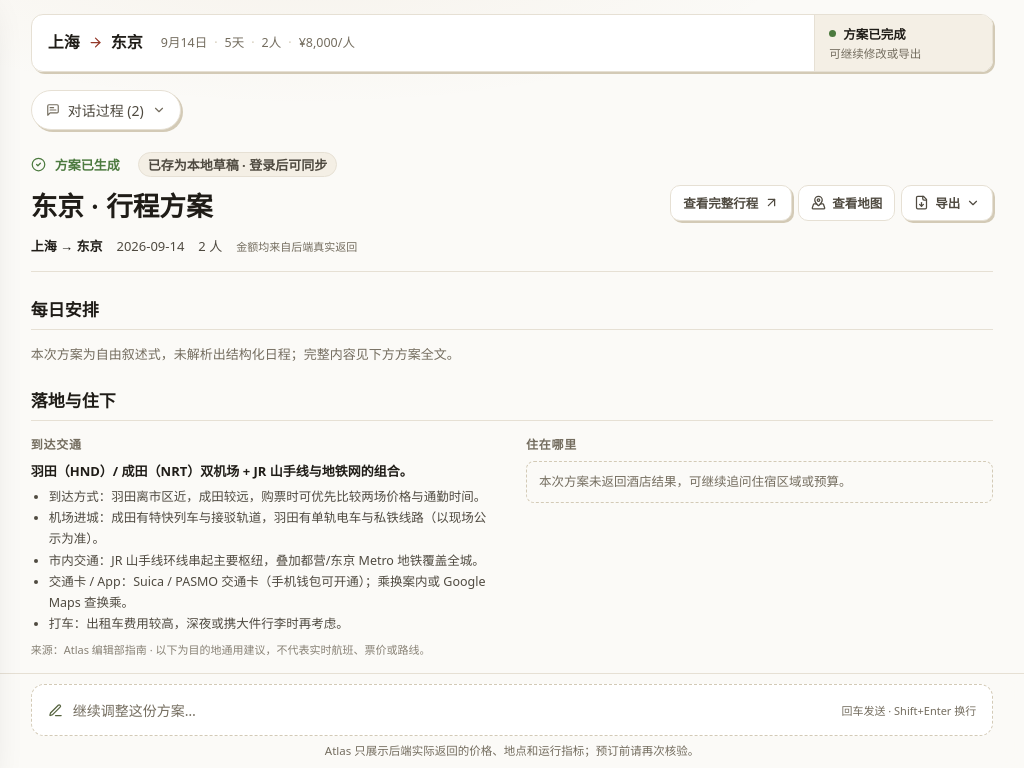
Atlas page integration › restores persisted journey sessions after a page refresh
The image size is (1024, 768).
Expected: the heading "东京 · 行程方案" is shown, 31,185 -> 213,224
Click the button "对话过程 (2)".
click(106, 110)  # box 31,90 -> 181,130
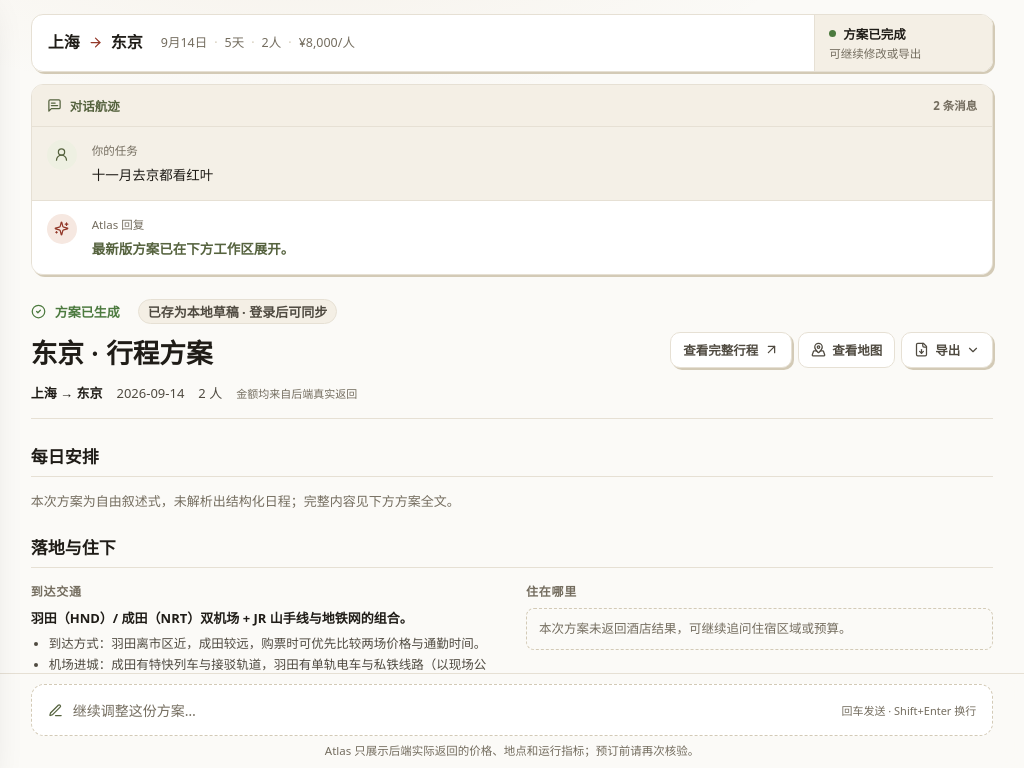
Expected: the button "继续调整这份方案… 回车发送 · Shift+Enter 换行" is shown, 31,684 -> 993,736
Now the text "十一月去京都看红叶" is shown, box 92,166 -> 213,184
